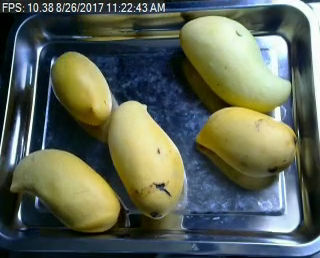Mango: (177, 14, 290, 111), (9, 147, 119, 233), (108, 101, 184, 217), (192, 105, 297, 175), (52, 48, 112, 123)
